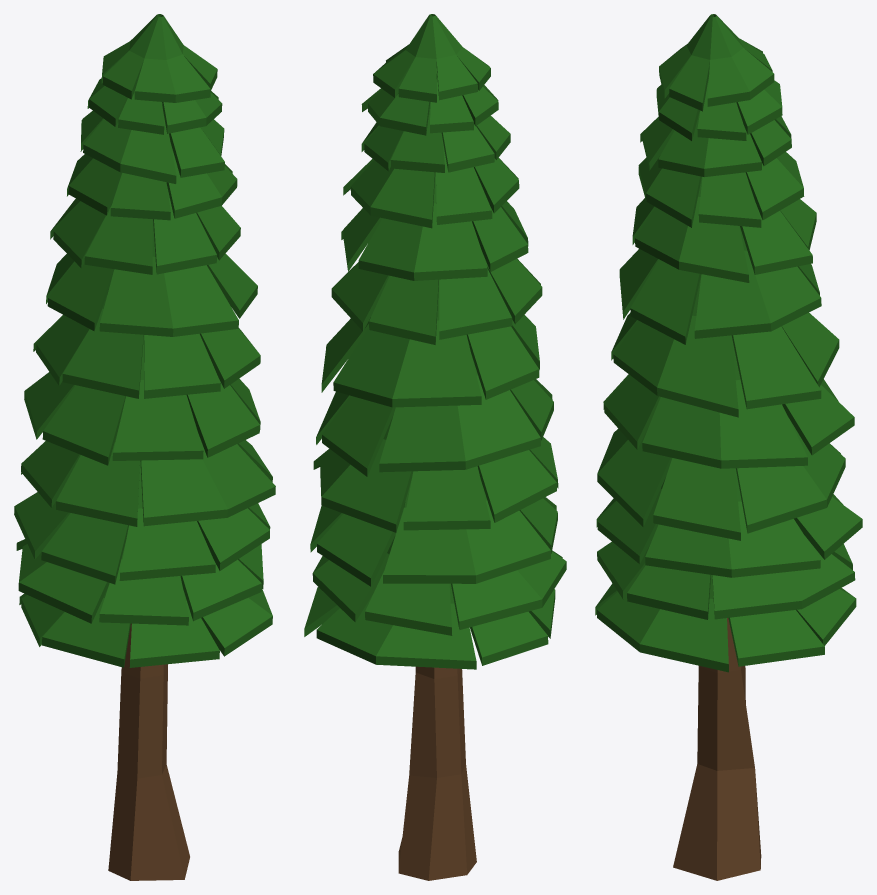
Rendered from pine_tree_4.fbx.
The picture shows the model from 3 angles, left to right: view 1: azimuth 30°, elevation 25°; view 2: azimuth 150°, elevation 25°; view 3: azimuth 270°, elevation 25°; orthographic projection.
Parts seen in each view (by area): view 1: Circle.011; view 2: Circle.011; view 3: Circle.011.
Part boxes in pixels (x1=…): Circle.011: x1=14, y1=14, x2=275, y2=880; Circle.011: x1=304, y1=14, x2=566, y2=880; Circle.011: x1=595, y1=14, x2=862, y2=880.
Size of the model in its own units: 239 by 834 by 238.
2 materials, 1 textured.
